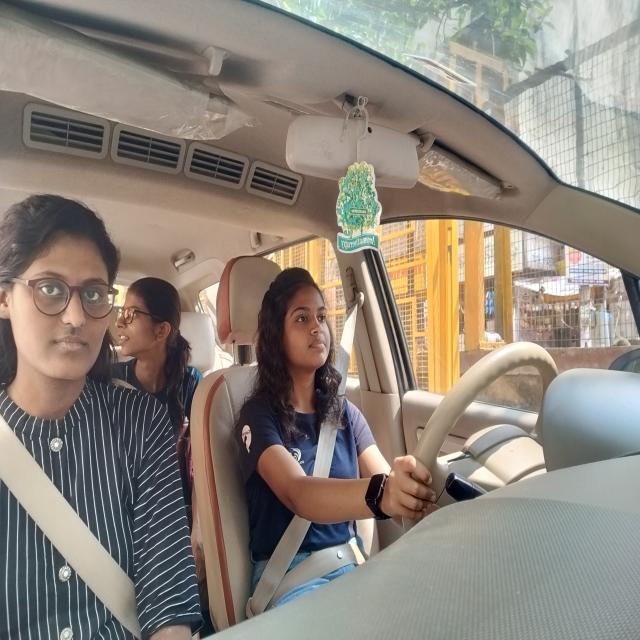person: (8, 215, 112, 386), (262, 270, 335, 368), (118, 268, 184, 364)
